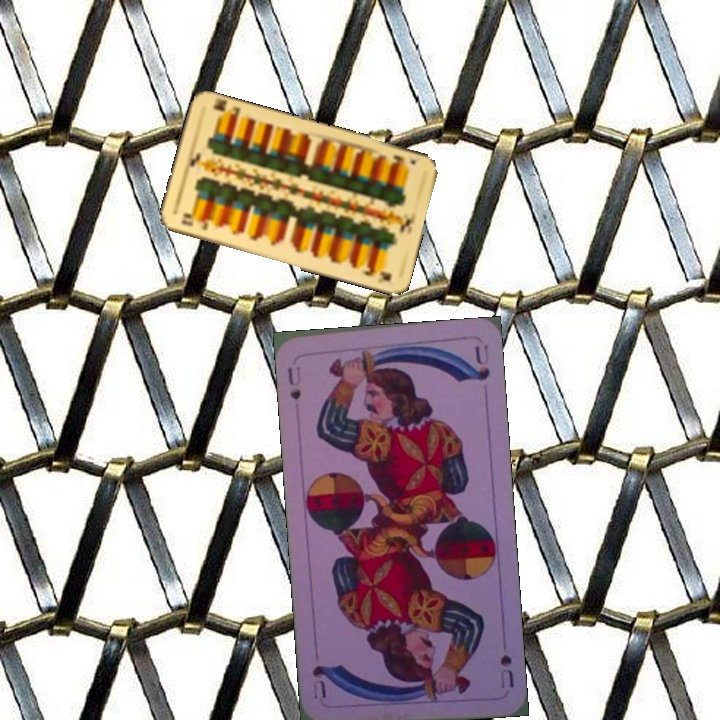E10: (177, 212, 210, 233), (388, 150, 419, 167)
SU: (283, 362, 304, 403), (496, 650, 516, 691)
